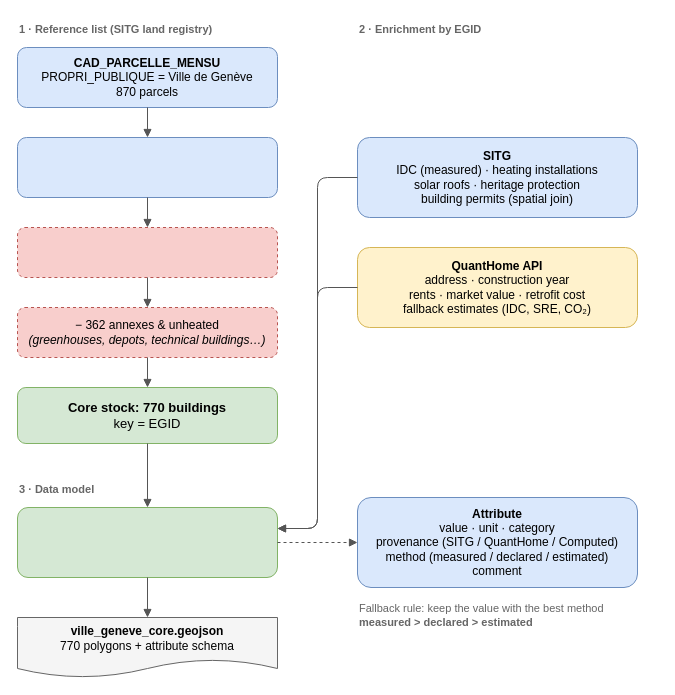
This 675x695 diagram has some shape labels left out. Here are the shapes that lost their labels. From the top down, the centre of each, then its label:
At pixel 147 167: "CAD_BATIMENT_HORSOL buildings standing on those parcels 1,344 buildings".
At pixel 147 252: "− 212 under a third-party DDP (CAD_DDP: city owns the land only)".
At pixel 147 542: "Building egid · parcel · geometry attrs: name → Attribute".
